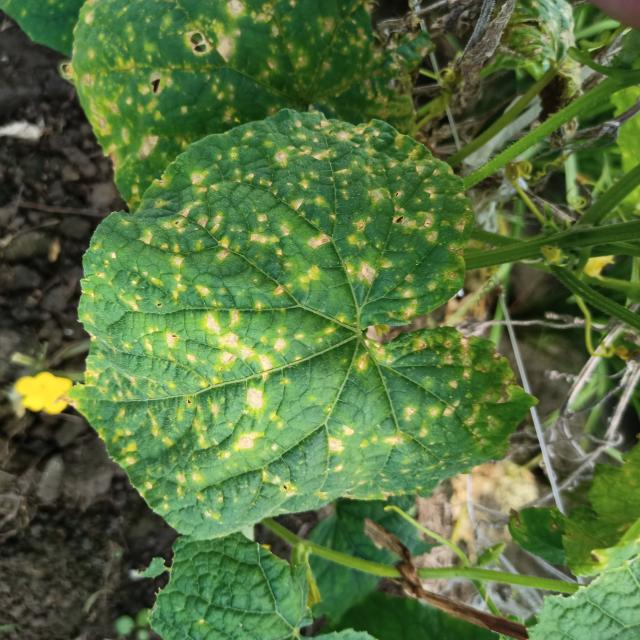disease_cucumber: (83, 104, 510, 536), (77, 0, 406, 180)
